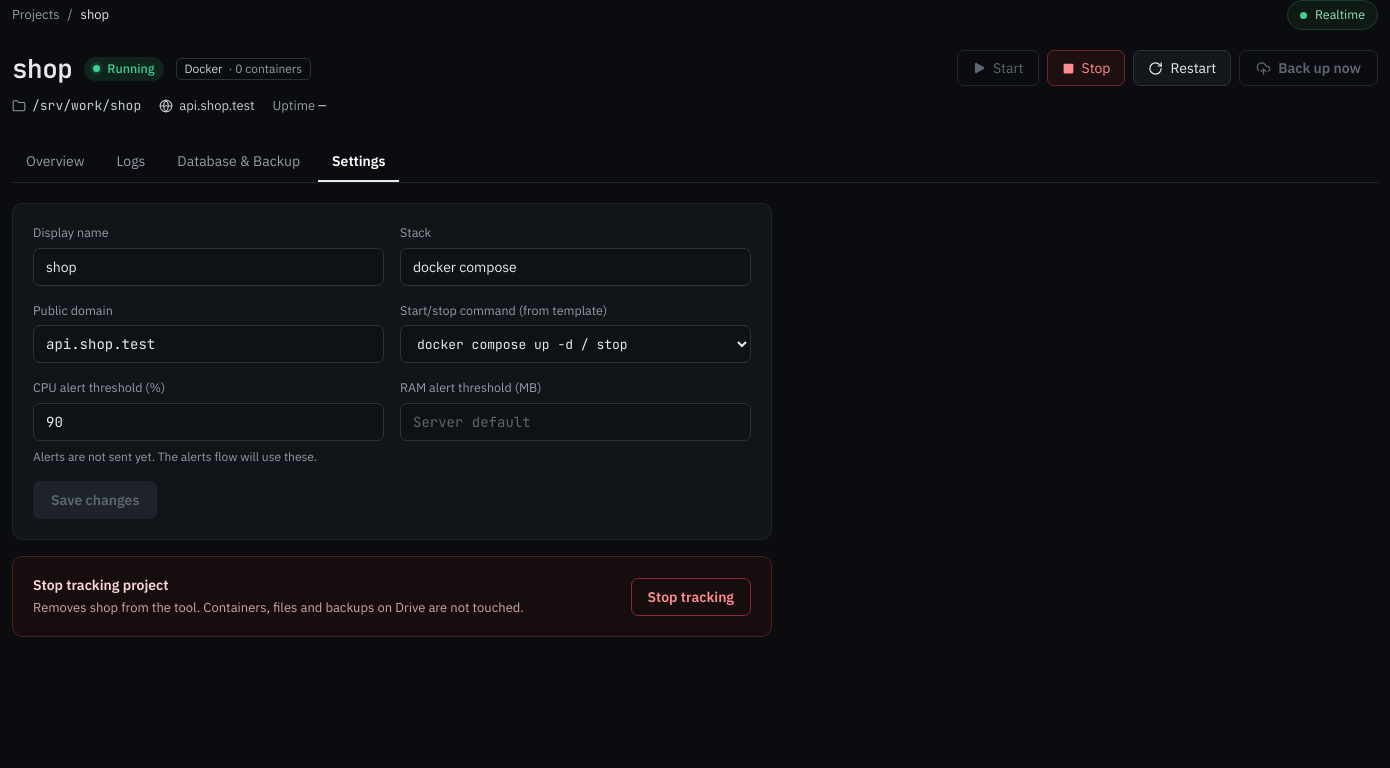
settings tab › shows a 422 under its field and focuses it
Replace the text in the field labelled "Public domain" with "http://bad": (208, 344) [33,325,384,363]
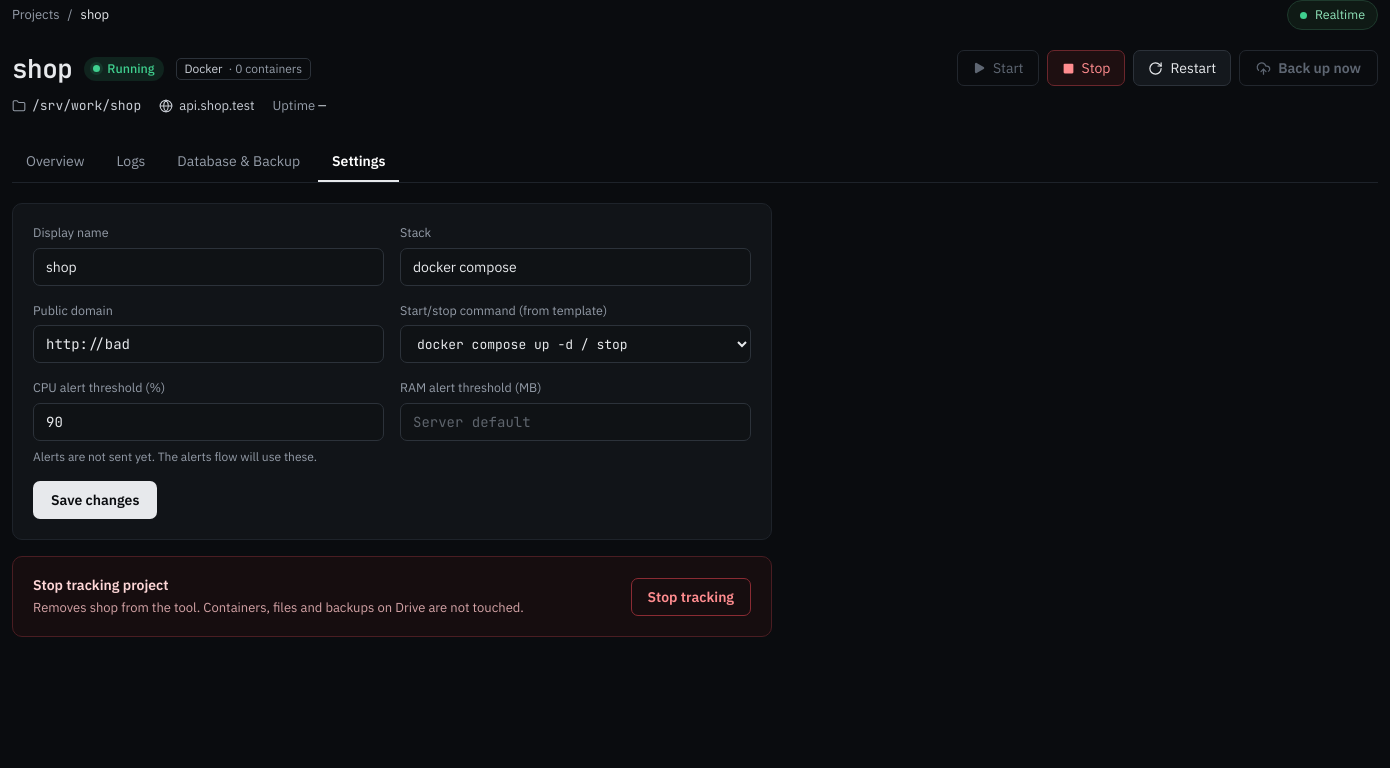
Click the button "Save changes": (95, 500) [33,481,157,519]
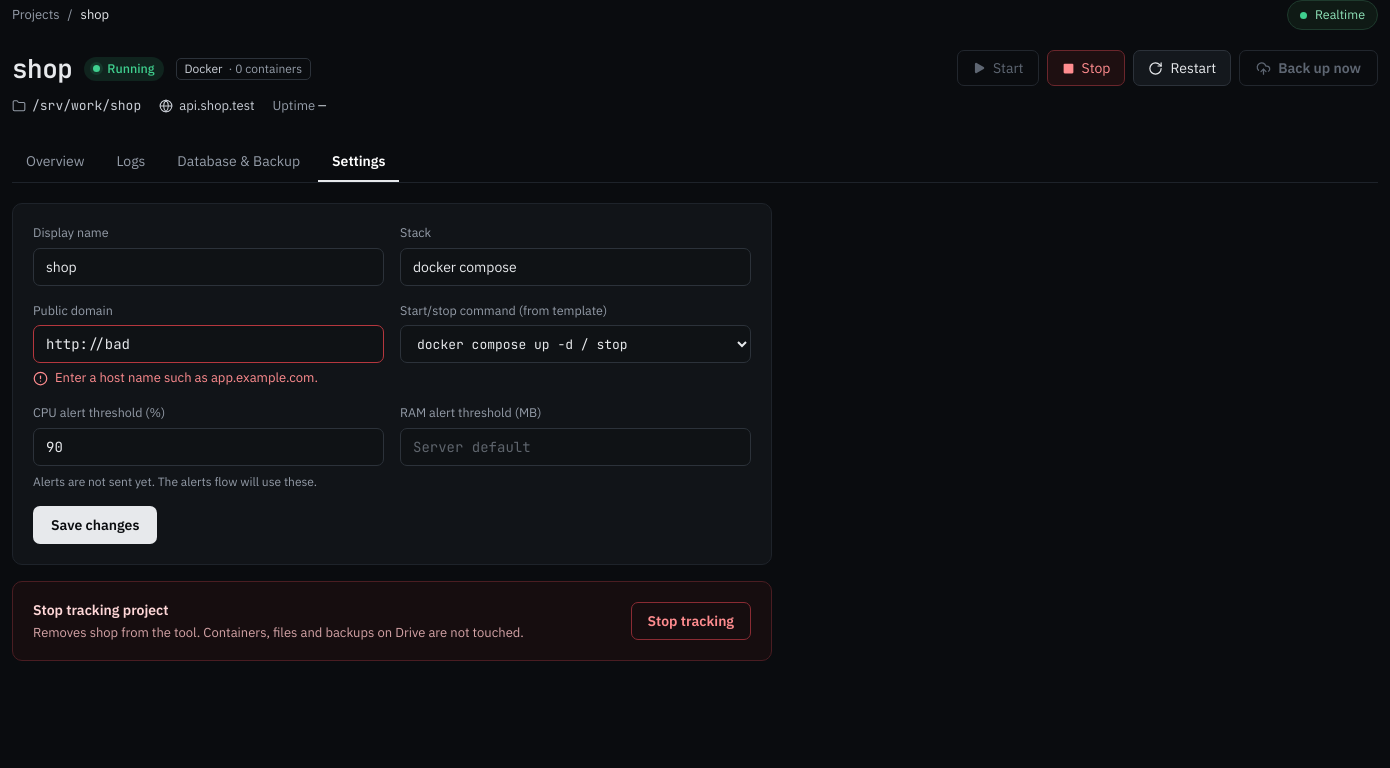
expect the button "Save changes" is enabled: met, box [33,506,157,544]
expect the message "Enter a host name such as app.example.com." is shown: met, box [33,369,318,386]
Replace the text in the field labelled "Public domain" with "shop.example.com": (208, 344) [33,325,384,363]
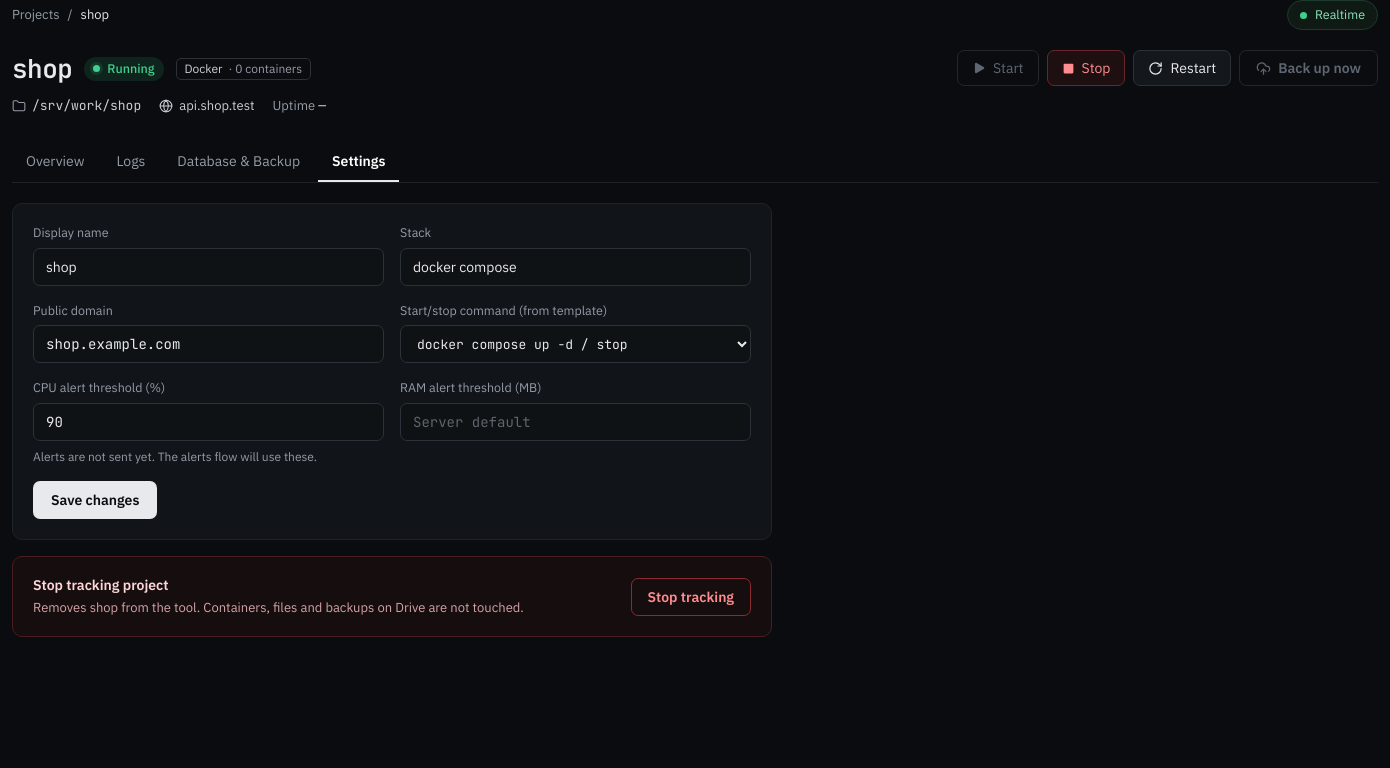
expect the text "Enter a host name such as app.example.com." is gone: met
